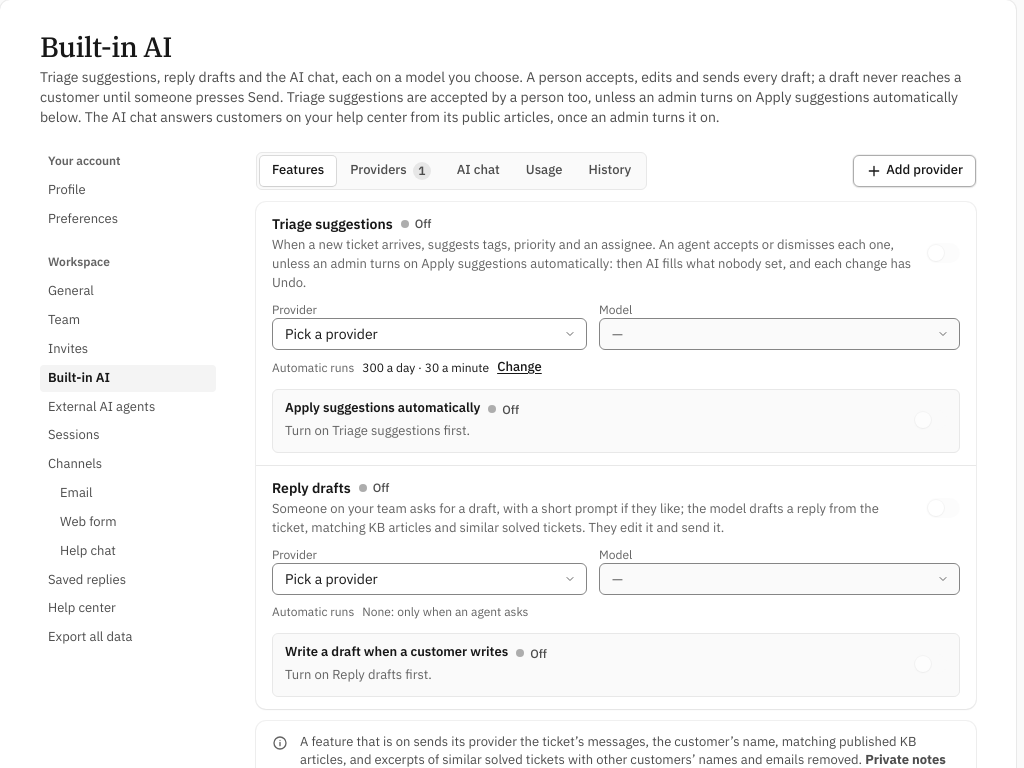
Test: changing to a key that fails says the old key still works
Click the tab "Providers 1" at {"x": 390, "y": 171}, box [338, 156, 443, 186]
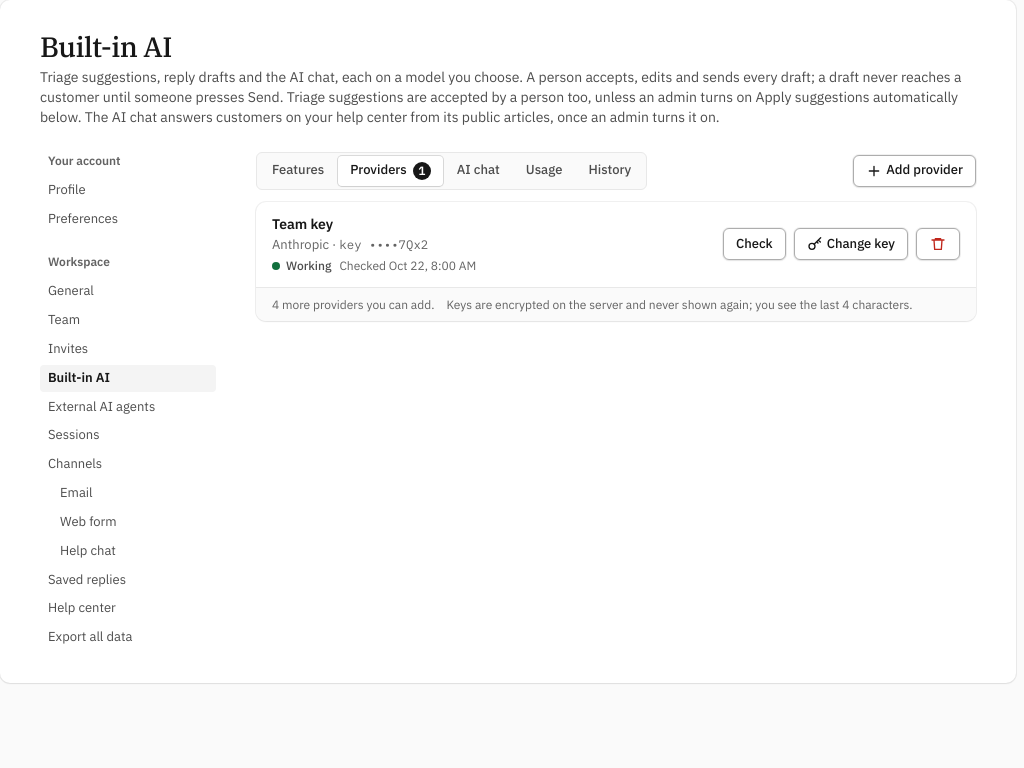
Click the button "Change key" at {"x": 851, "y": 244}, box [794, 228, 908, 260]
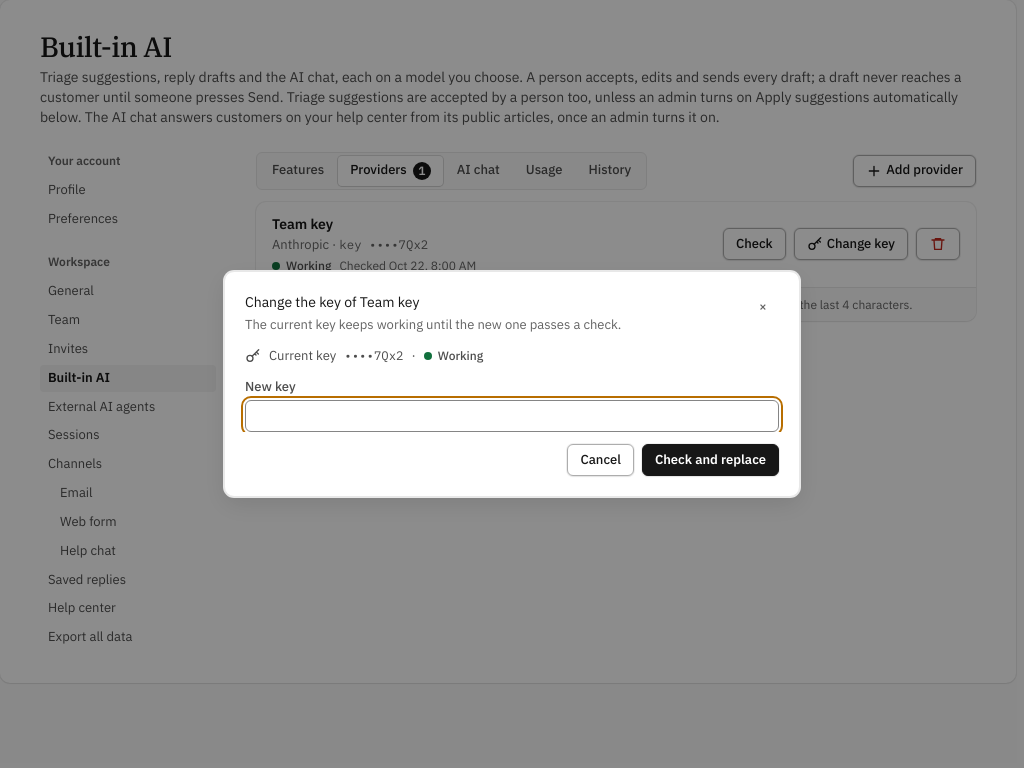
Type "sk-bad" into the password field labelled "New key" at {"x": 512, "y": 416}, box [245, 400, 779, 432]
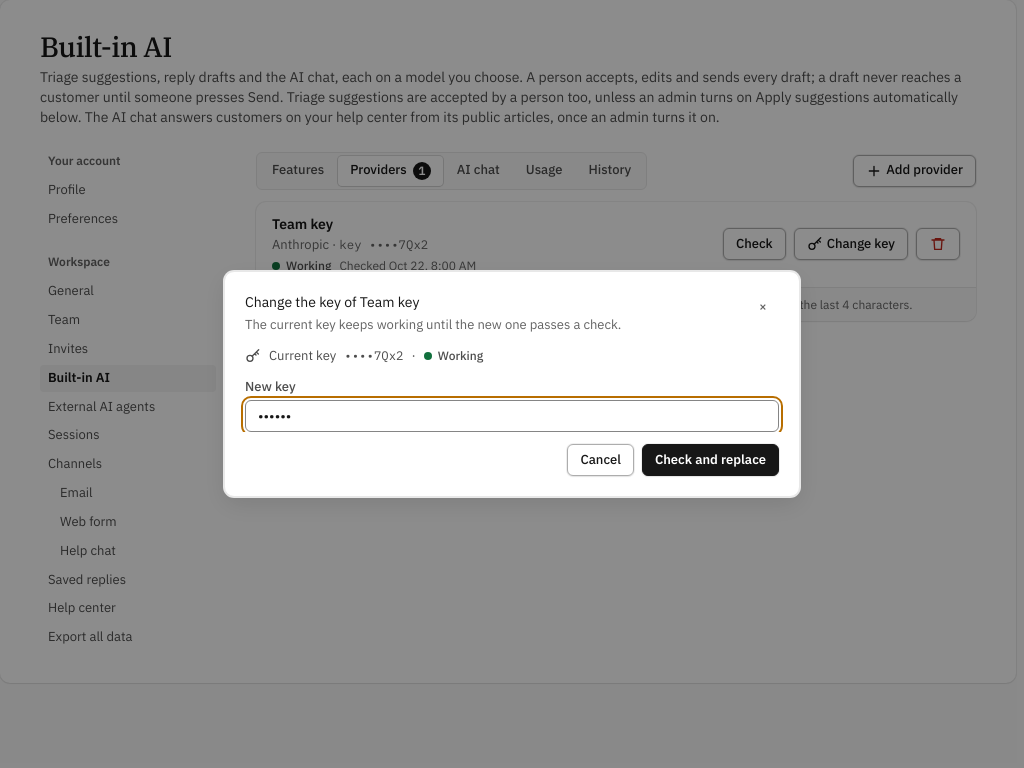
Click the button "Check and replace" at {"x": 710, "y": 460}, box [642, 444, 779, 476]
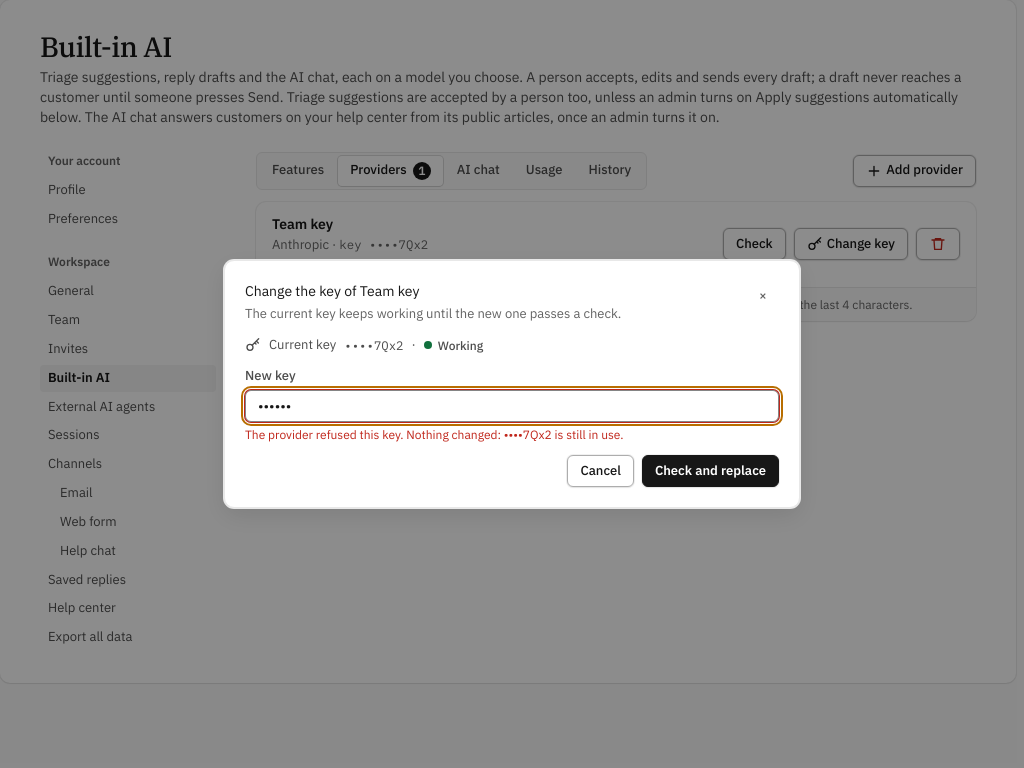
Expected: the text "Nothing changed: ••••7Qx2 is still in use." is shown, [245, 427, 624, 442]
